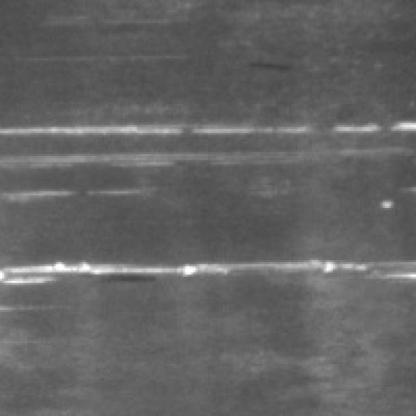scratches: (0, 123, 410, 177), (0, 258, 410, 296)
